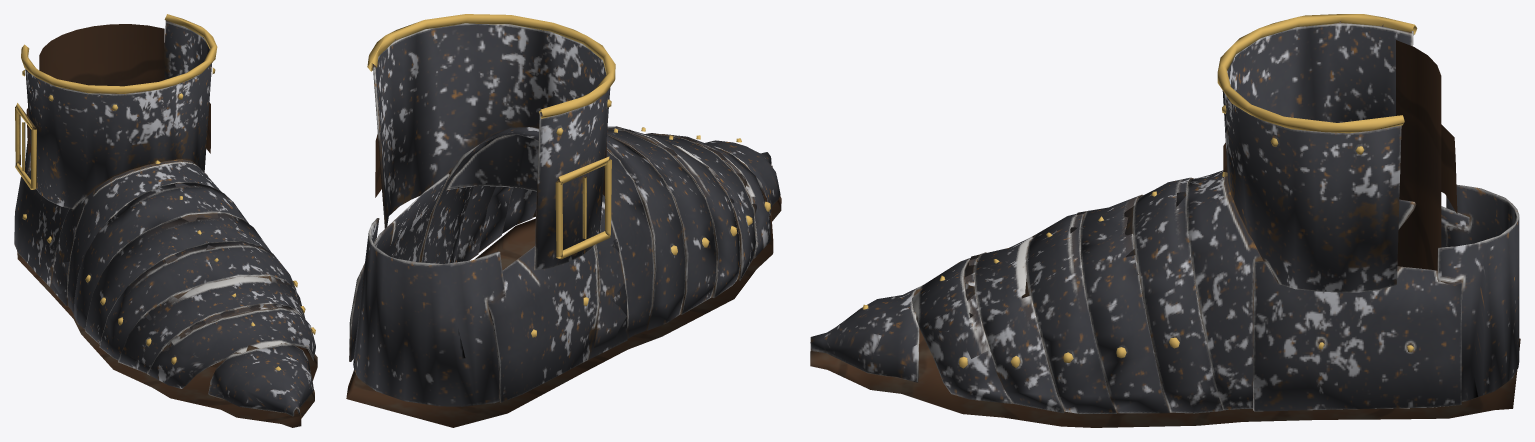
The model's file is SM_EagleSabatons_R_LOD2.fbx.
The picture shows the model from 3 angles, left to right: view 1: azimuth 30°, elevation 25°; view 2: azimuth 150°, elevation 25°; view 3: azimuth 270°, elevation 25°; orthographic projection. The views are drawn at different scales.
Visible parts, largest first — view 1: SM_EagleSabatons_R_LOD2; view 2: SM_EagleSabatons_R_LOD2; view 3: SM_EagleSabatons_R_LOD2.
Part boxes in pixels (<box>): SM_EagleSabatons_R_LOD2: <box>14,14,317,427</box>; SM_EagleSabatons_R_LOD2: <box>346,14,781,427</box>; SM_EagleSabatons_R_LOD2: <box>810,14,1520,427</box>.
Bounding box in the file's own units: 0.1193 × 0.1414 × 0.2953.
